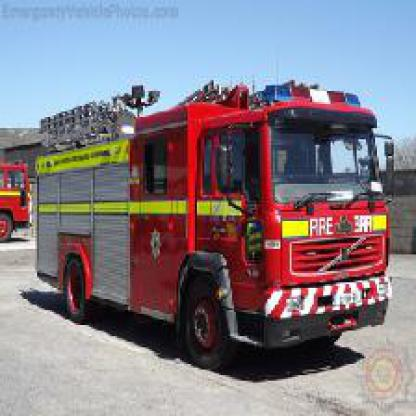emergency: (22, 96, 414, 384)
